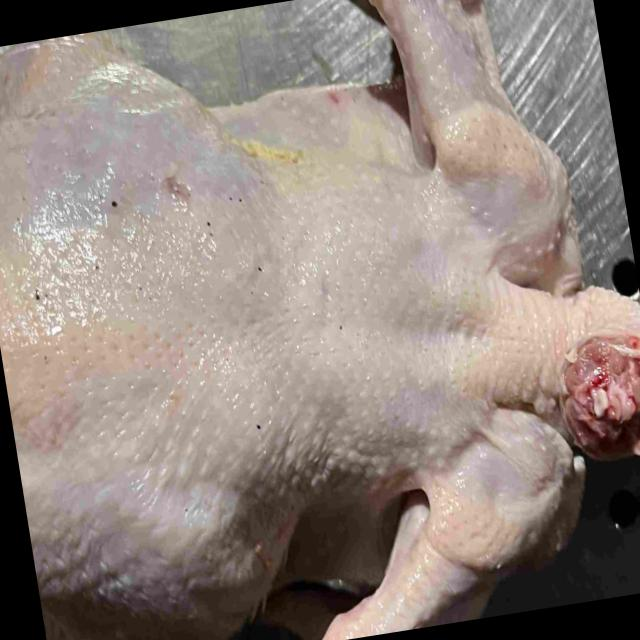back: (0, 134, 466, 540)
leg: (0, 48, 217, 189), (32, 545, 250, 640)
neck: (473, 279, 640, 463)
wing: (268, 418, 590, 640), (371, 0, 582, 285)
